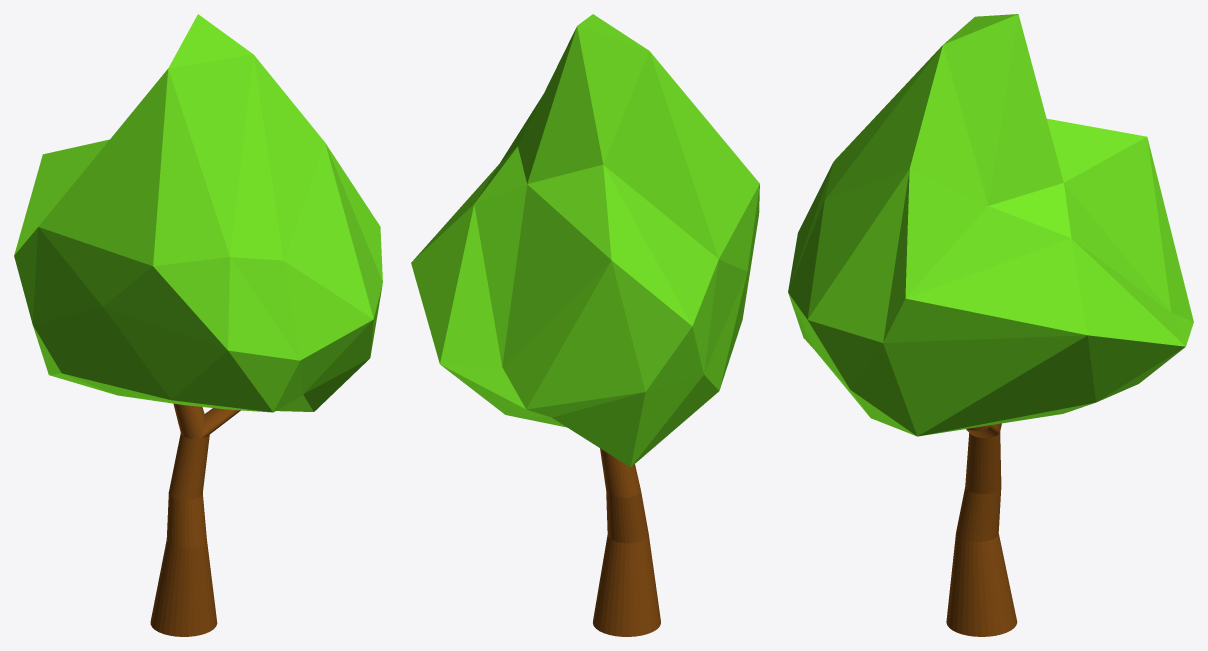
The model's file is SM_Generic_Tree_03.fbx.
3 views of the same model, side by side, from view 1: azimuth 30°, elevation 25°; view 2: azimuth 150°, elevation 25°; view 3: azimuth 270°, elevation 25° (orthographic). The views are drawn at different scales.
Parts seen in each view (by area): view 1: Icosphere, Cylinder; view 2: Icosphere, Cylinder; view 3: Icosphere, Cylinder.
Part boxes in pixels (x1,y1,x2,y2): Icosphere: [14, 14, 382, 412]; Cylinder: [150, 403, 240, 636]; Icosphere: [411, 14, 759, 467]; Cylinder: [593, 448, 660, 636]; Icosphere: [788, 14, 1193, 436]; Cylinder: [946, 423, 1017, 636].
Bounding box in the file's own units: 311 × 627 × 369.
